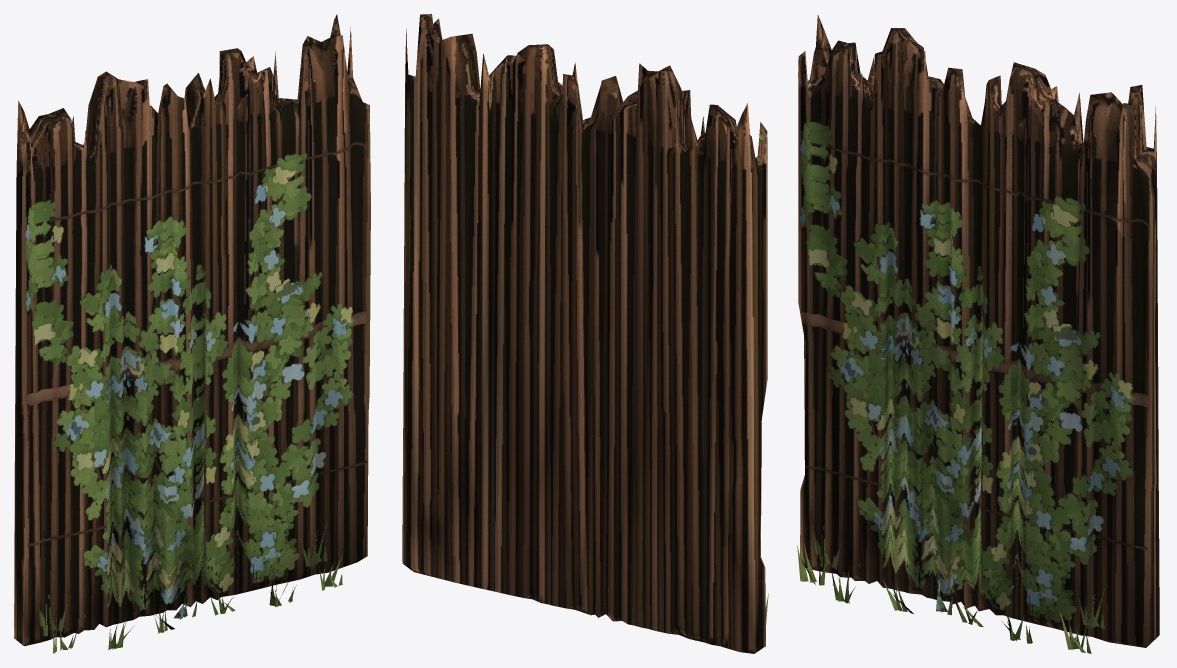
The model's file is fence_reed_flowers.glb.
3 views of the same model, side by side, from view 1: azimuth 30°, elevation 25°; view 2: azimuth 150°, elevation 25°; view 3: azimuth 330°, elevation 25° (orthographic). The views are drawn at different scales.
Visible parts, largest first — view 1: fence_reed_flowers_lod0; view 2: fence_reed_flowers_lod0; view 3: fence_reed_flowers_lod0.
Boxes of the visible parts, left/top/right/bottom form: fence_reed_flowers_lod0: left=14, top=14, right=370, bottom=653; fence_reed_flowers_lod0: left=402, top=14, right=768, bottom=653; fence_reed_flowers_lod0: left=797, top=14, right=1159, bottom=653.
Bounding box in the file's own units: 1 × 1.5 × 0.2074.
1 material, 1 textured.
